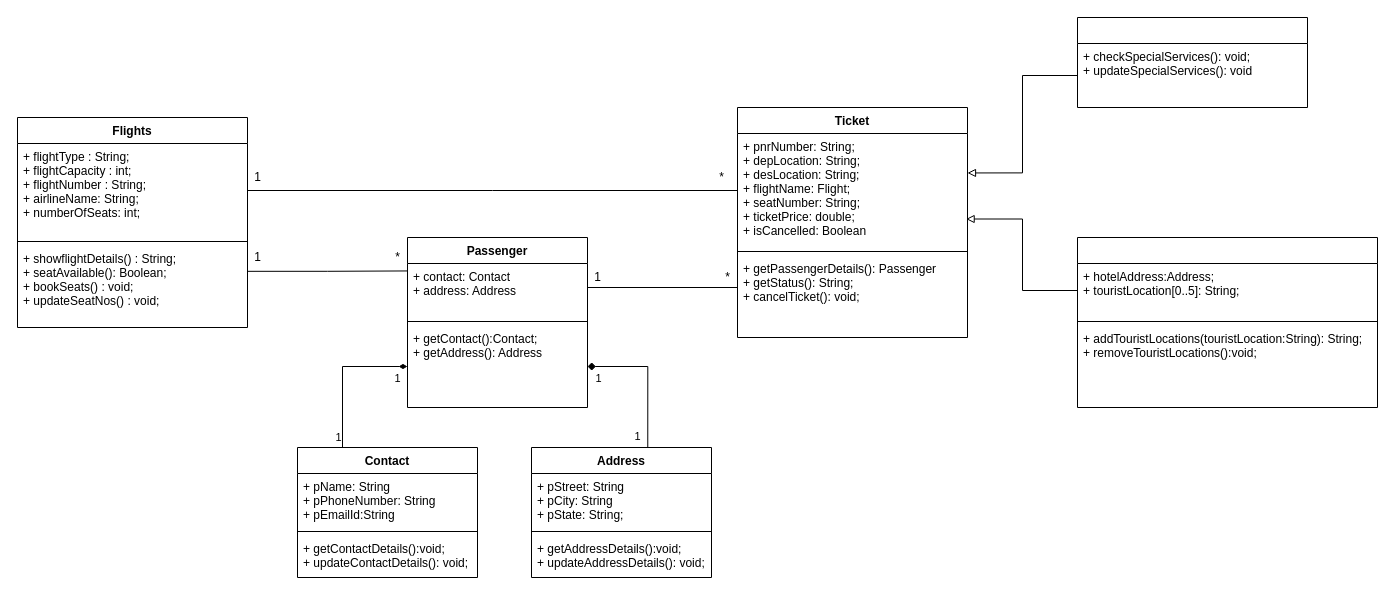
Some shapes in this 1395 by 598 pixel diagram are drawn without their labels. Here are the shapes that lost their labels. From the top down, the box of each, then its label:
(1076, 16, 1308, 108): RegularTicket
(1076, 236, 1378, 408): TouristTicket
